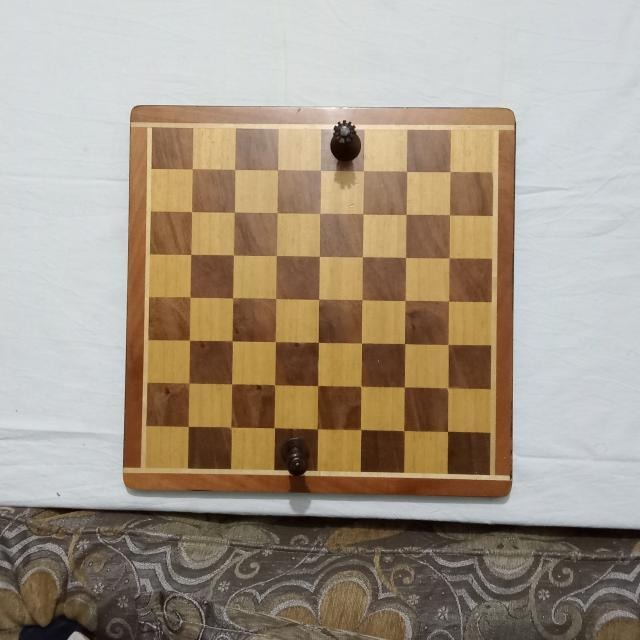black-king: (280, 438, 312, 478)
black-queen: (330, 115, 362, 163)
